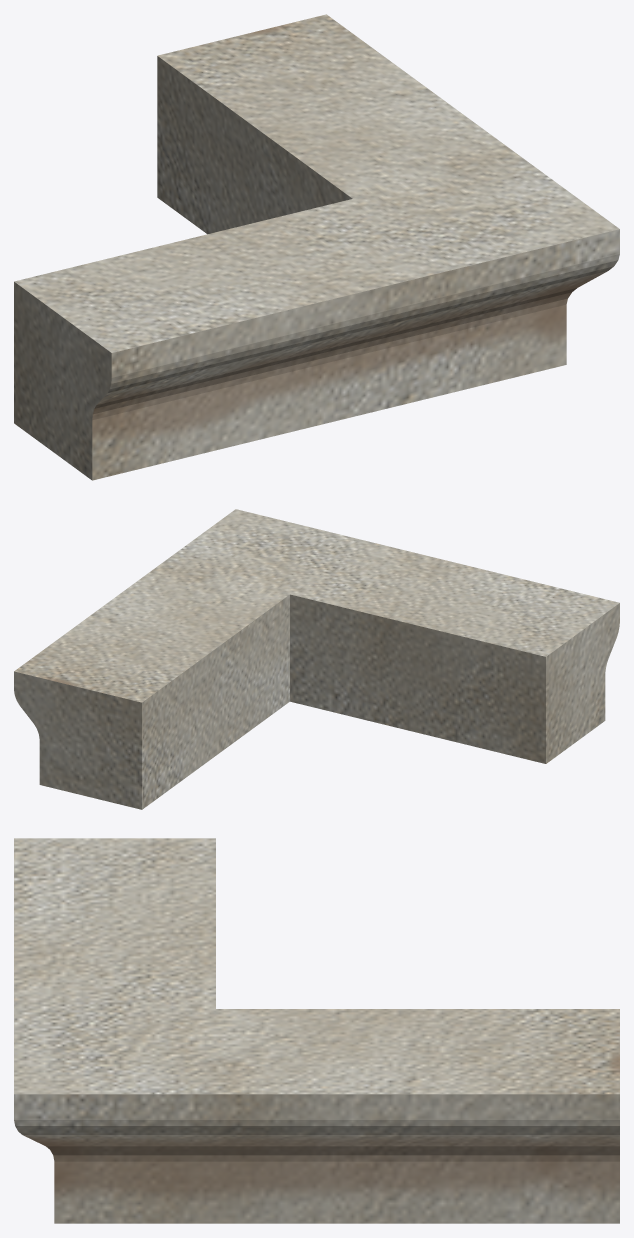
File: AngleTrimUnit.fbx
3 views of the same model, one above another, from view 1: azimuth 30°, elevation 25°; view 2: azimuth 150°, elevation 25°; view 3: azimuth 270°, elevation 25° (orthographic). The views are drawn at different scales.
Parts seen in each view (by area): view 1: AngleTrimUnit; view 2: AngleTrimUnit; view 3: AngleTrimUnit.
Part boxes in pixels (left/top/right/bottom): AngleTrimUnit: left=14, top=14, right=619, bottom=480; AngleTrimUnit: left=14, top=509, right=619, bottom=809; AngleTrimUnit: left=14, top=838, right=619, bottom=1223.
Size of the model in its own units: 150 by 40 by 150.
1 material, 1 textured.
